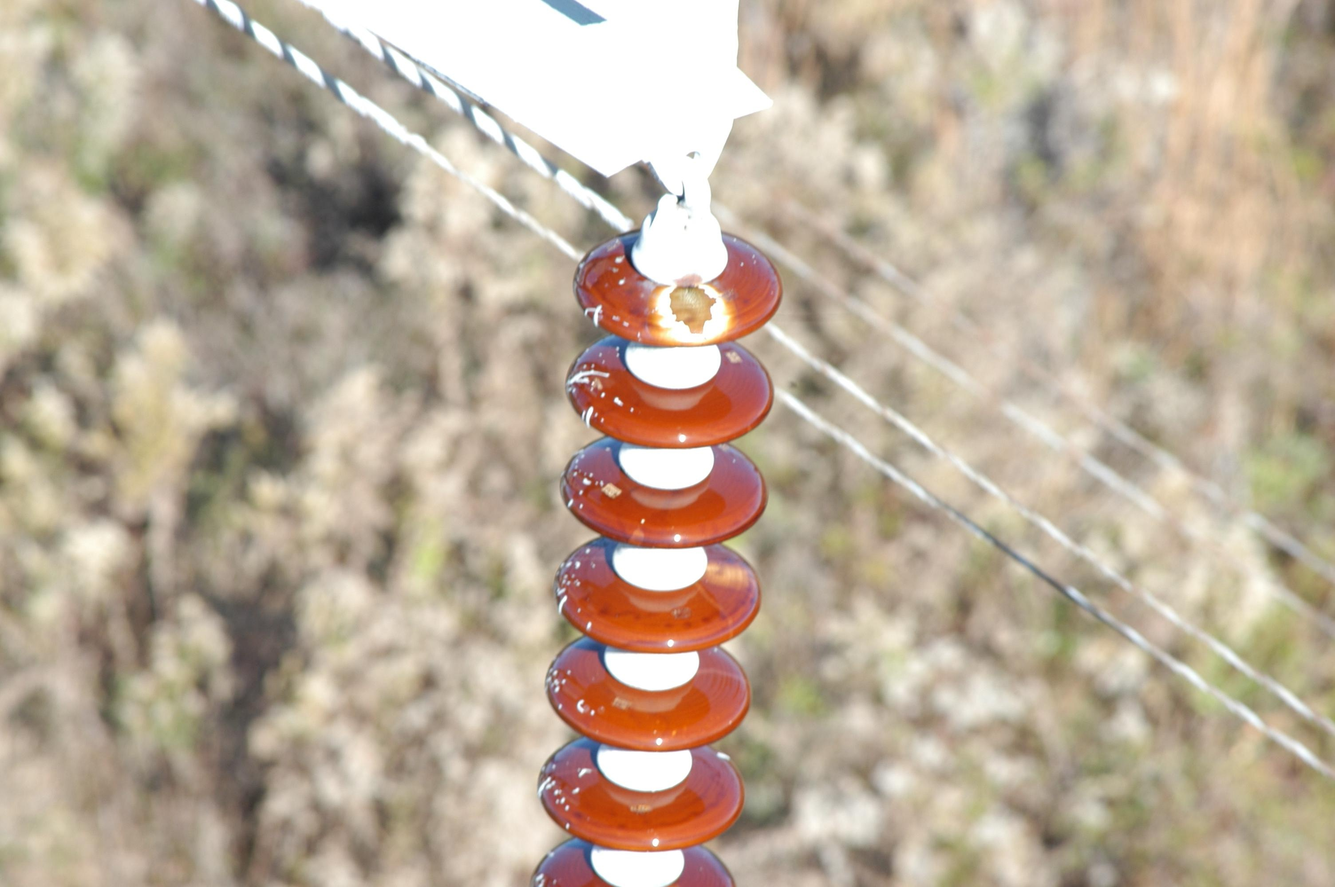Flashover: (643, 271, 731, 345)
insulator: (537, 229, 779, 887)
